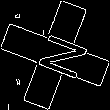N_W: (24, 27, 86, 83)
